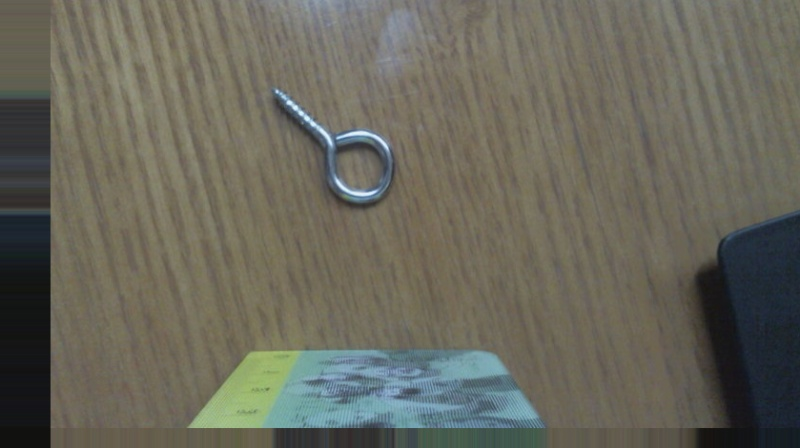O001: (268, 82, 398, 209)
